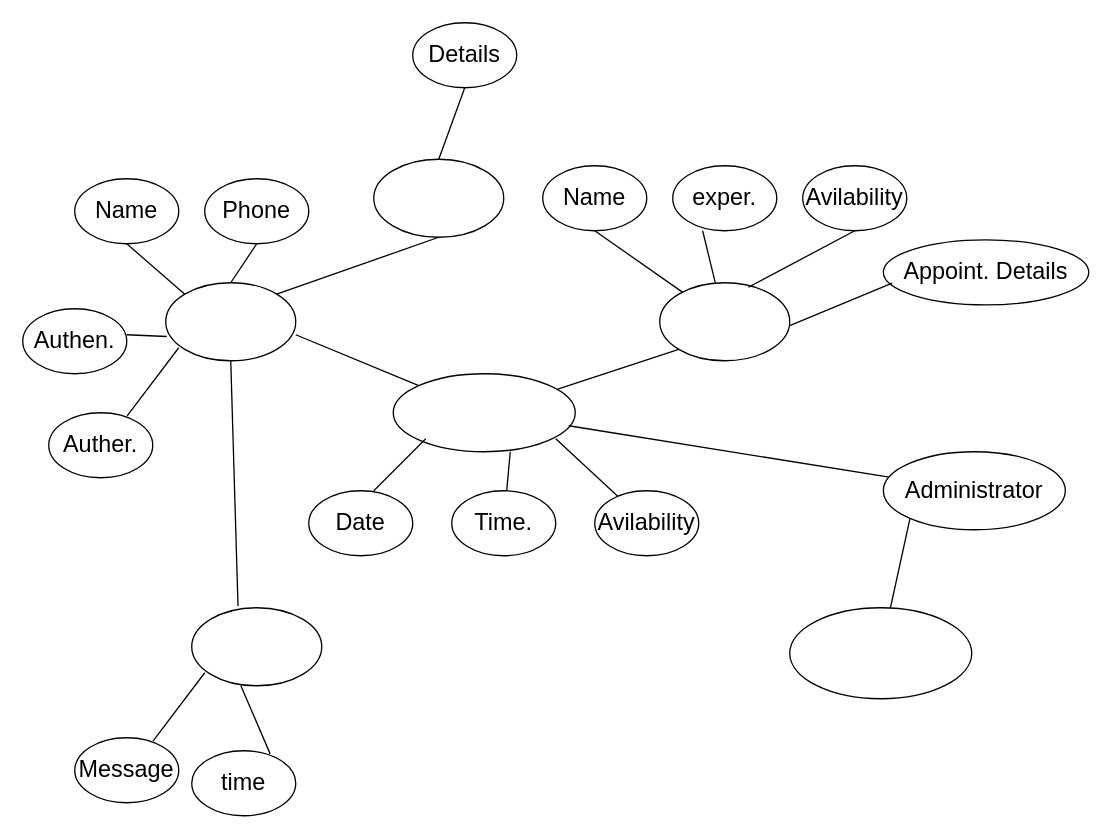
This 1112x838 diagram has some shape labels left out. The shapes that lost their labels are listed below. From the top down, each one's centre as x and y in pixels, then its label:
At (x=438, y=197): "Payment".
At (x=230, y=321): "Patient".
At (x=724, y=321): "Doctor".
At (x=483, y=412): "Apppointment".
At (x=256, y=646): "Notification".
At (x=880, y=652): "Appointment Numbers".
